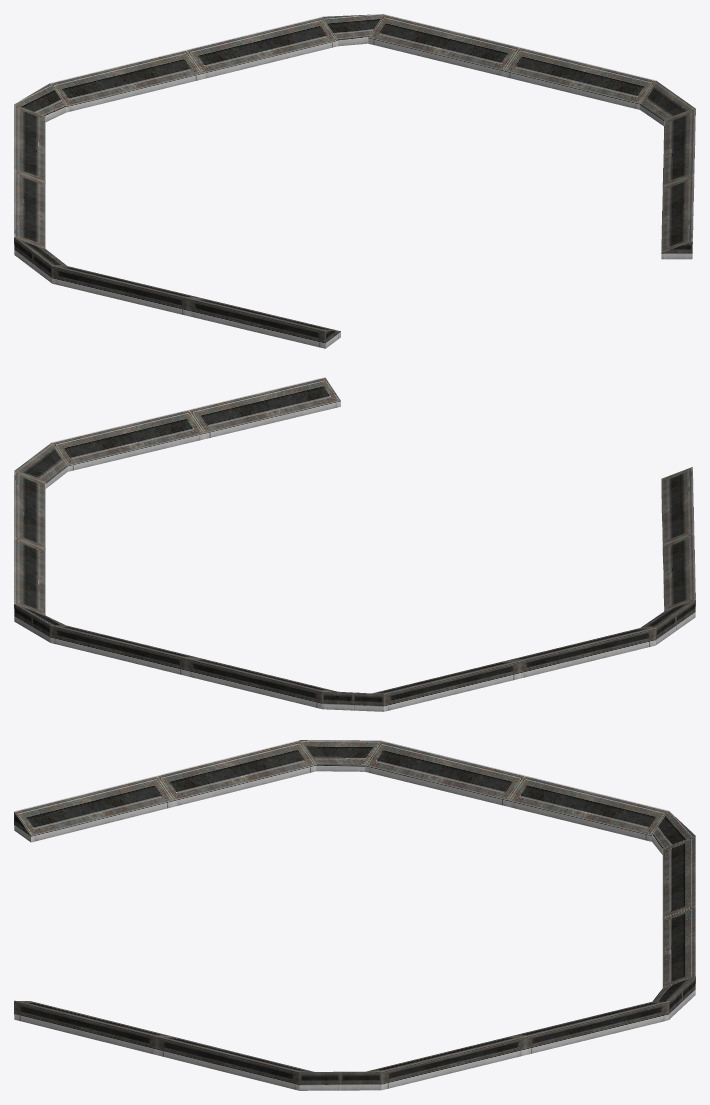
Rendered from Otegon_bar.FBX.
The picture shows the model from 3 angles, top to bottom: view 1: azimuth 30°, elevation 25°; view 2: azimuth 150°, elevation 25°; view 3: azimuth 270°, elevation 25°; orthographic projection. The views are drawn at different scales.
Parts seen in each view (by area): view 1: Line04; view 2: Line04; view 3: Line04.
Boxes of the visible parts, bbox=[...] form: Line04: bbox=[14, 14, 695, 348]; Line04: bbox=[14, 377, 695, 711]; Line04: bbox=[14, 740, 695, 1090].
Size of the model in its own units: 610 by 16.28 by 530.
